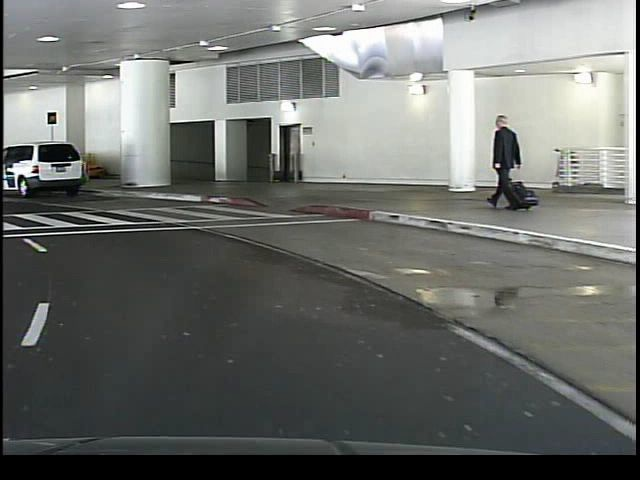person: (480, 109, 516, 214)
